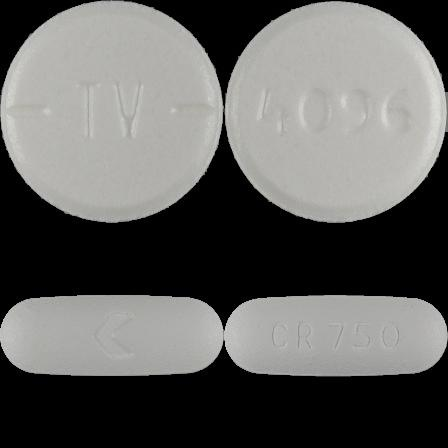52959-733: (0, 0, 224, 224)
